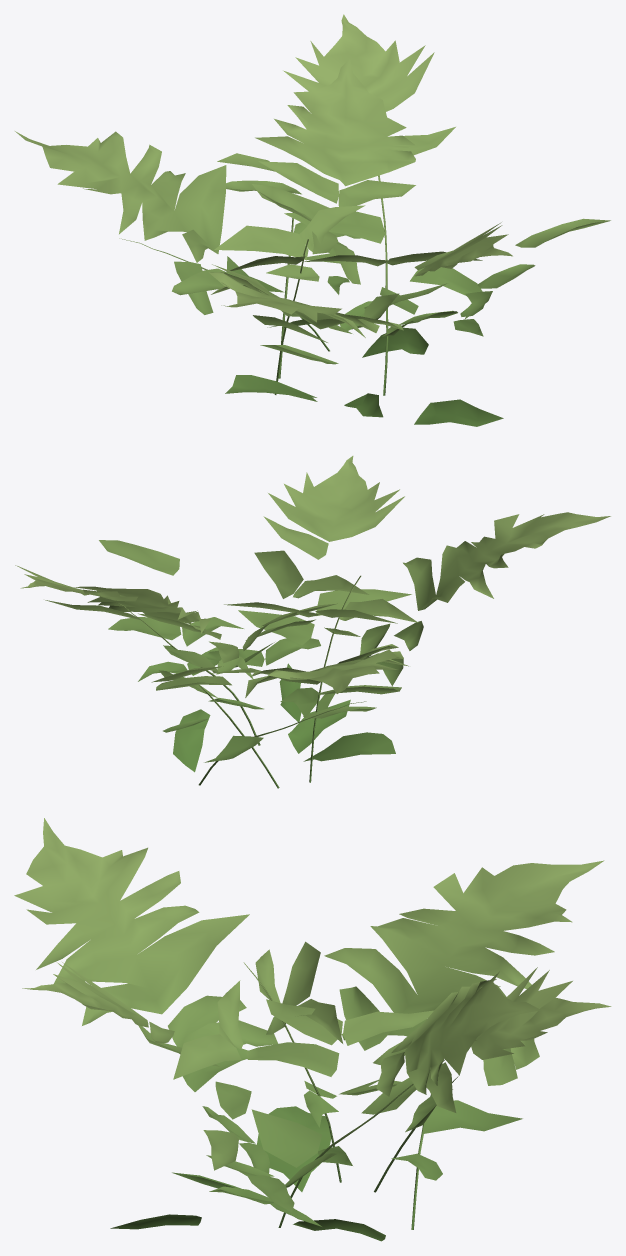
File: Fern Lush B.glb
3 views of the same model, one above another, from view 1: azimuth 30°, elevation 25°; view 2: azimuth 150°, elevation 25°; view 3: azimuth 270°, elevation 25° (orthographic). The views are drawn at different scales.
Parts seen in each view (by area): view 1: Fern Lush B; view 2: Fern Lush B; view 3: Fern Lush B.
Part boxes in pixels (left/top/right/bottom): Fern Lush B: left=15, top=14, right=610, bottom=426; Fern Lush B: left=15, top=456, right=610, bottom=788; Fern Lush B: left=14, top=818, right=611, bottom=1241.
Size of the model in its own units: 1.05 by 0.5359 by 1.03.
